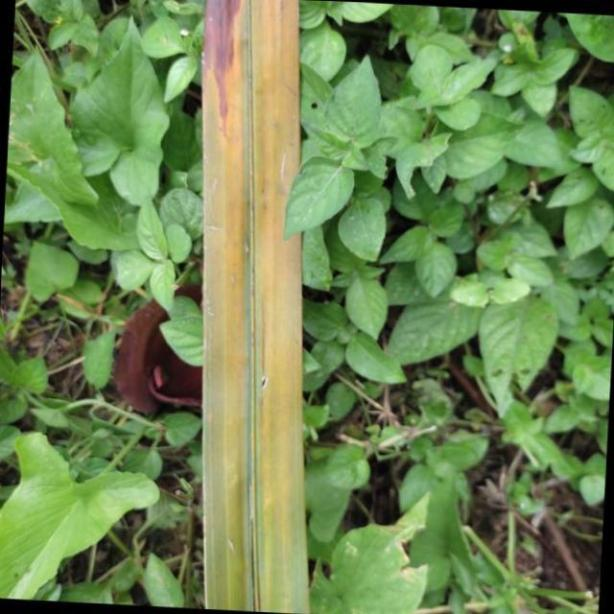Megnesium: (197, 0, 313, 614)
